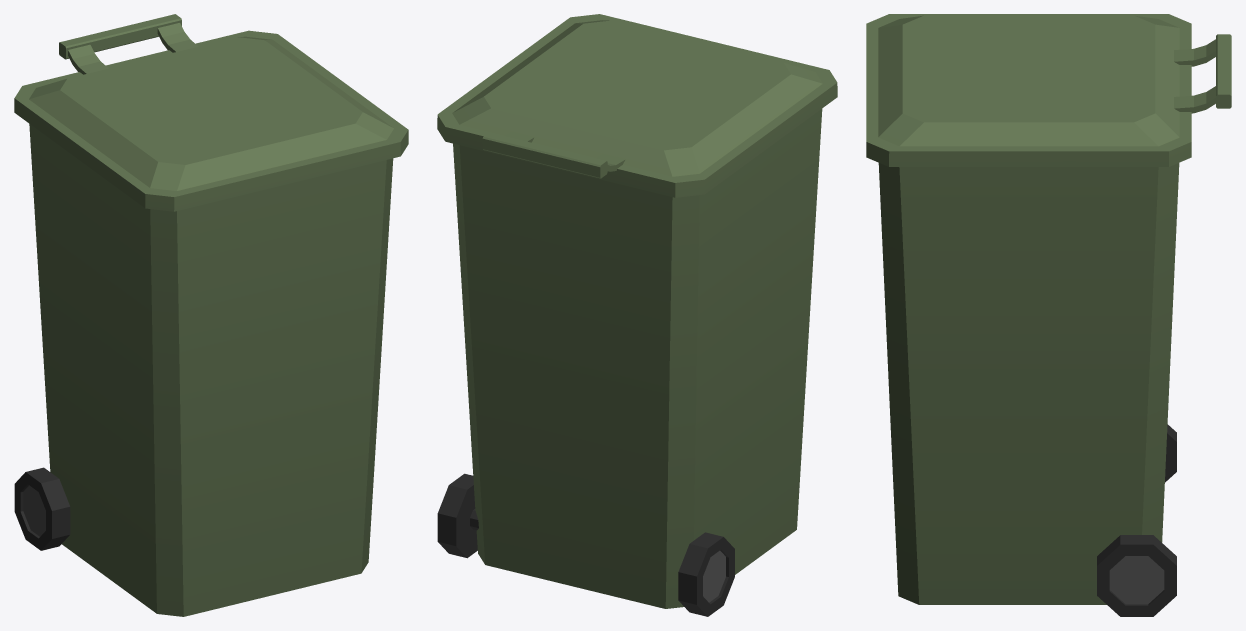
Rendered from Trash_02.fbx.
3 views of the same model, side by side, from view 1: azimuth 30°, elevation 25°; view 2: azimuth 150°, elevation 25°; view 3: azimuth 270°, elevation 25° (orthographic). The views are drawn at different scales.
Parts seen in each view (by area): view 1: Trash_02; view 2: Trash_02; view 3: Trash_02.
Boxes of the visible parts, x1,y1,x2,y2 form: Trash_02: (14,14,408,616); Trash_02: (437,14,837,616); Trash_02: (866,14,1231,616).
Size of the model in its own units: 71.73 by 118 by 80.53.
